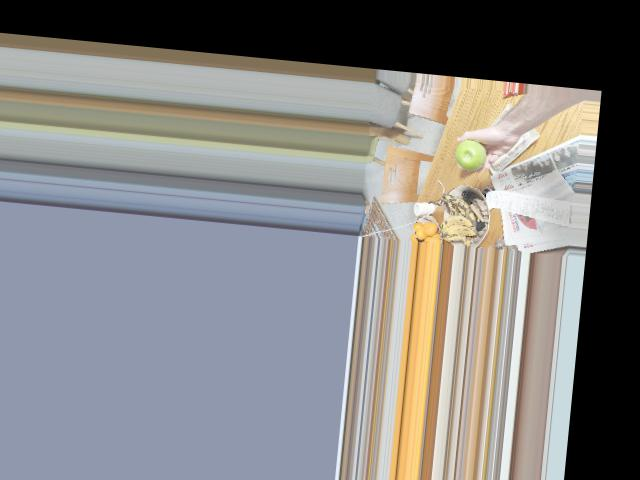apple: (447, 139, 493, 170)
